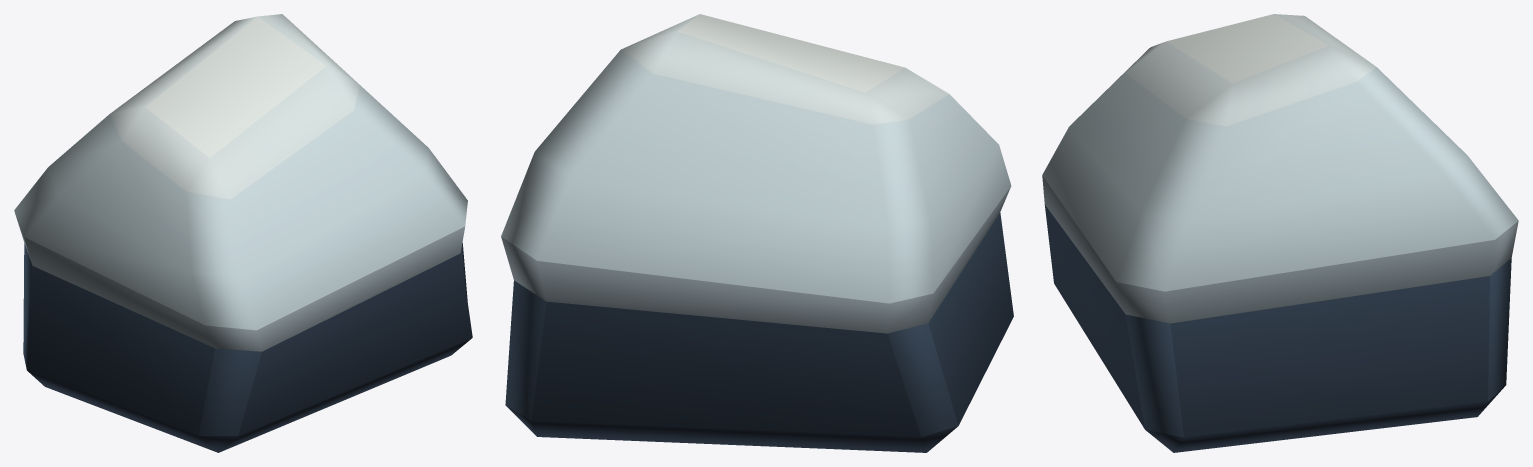
Rendered from rock_snow_015.fbx.
3 views of the same model, side by side, from view 1: azimuth 30°, elevation 25°; view 2: azimuth 150°, elevation 25°; view 3: azimuth 270°, elevation 25° (orthographic). The views are drawn at different scales.
Parts seen in each view (by area): view 1: rock_snow_015; view 2: rock_snow_015; view 3: rock_snow_015.
Part boxes in pixels (x1,y1,x2,y2): rock_snow_015: (14,14,472,452); rock_snow_015: (501,14,1013,452); rock_snow_015: (1042,14,1518,452).
Bounding box in the file's own units: 114 × 90.22 × 114.
1 material, 1 textured.
